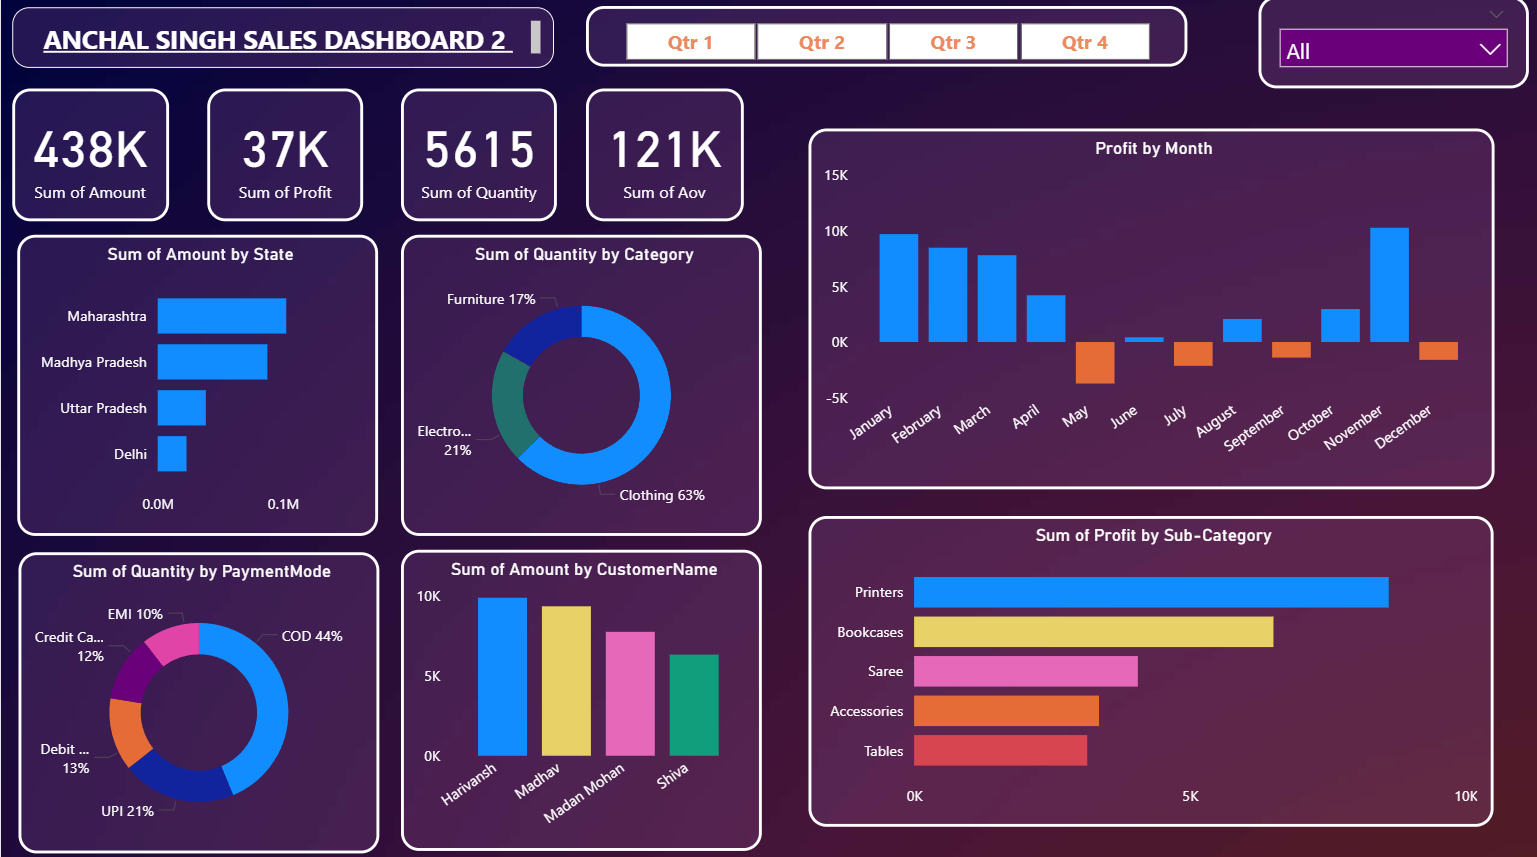

The dashboard page shown, as its layout file describes it:
{"tool":"powerbi","page":{"name":"Page 1","canvas":[1280,720],"ordinal":0},"visuals":[{"type":"textbox","box":[9.4,9.4,450,50],"z":0},{"type":"columnChart","title":"Profit by Month","fields":{"Category":["Orders.Order Date.Variation.Date Hierarchy.Month"],"Y":["Sum(Details.Profit)"]},"box":[671.4,110.2,570,300],"z":1000},{"type":"barChart","fields":{"Category":["Details.Sub-Category"],"Y":["Sum(Details.Profit)"]},"box":[671.4,432.3,569.5,258.8],"z":2000},{"type":"donutChart","fields":{"Y":["Sum(Details.Quantity)"],"Category":["Details.Category"]},"box":[332.6,198.5,300.3,250.5],"z":3000},{"type":"donutChart","fields":{"Y":["Sum(Details.Quantity)"],"Category":["Details.PaymentMode"]},"box":[14.5,462.5,300.3,250],"z":4000},{"type":"card","fields":{"Values":["Sum(Details.Amount)"]},"box":[9.6,76.8,130,110],"z":5000},{"type":"card","fields":{"Values":["Sum(Details.Quantity)"]},"box":[332.6,76.9,129.9,110.2],"z":6000},{"type":"card","fields":{"Values":["Sum(Details.Profit)"]},"box":[171.5,76.9,129.9,110.2],"z":7000},{"type":"card","fields":{"Values":["Sum(Details.Aov)"]},"box":[486.4,76.9,130.9,110.2],"z":8000},{"type":"barChart","fields":{"Category":["Orders.State"],"Y":["Sum(Details.Amount)"]},"box":[13.5,198.5,300.3,250.5],"z":9000},{"type":"columnChart","fields":{"Y":["Sum(Details.Amount)"],"Category":["Orders.CustomerName"]},"box":[332.6,460.4,300.3,250.5],"z":10000},{"type":"slicer","fields":{"Values":["Orders.Order Date.Variation.Date Hierarchy.Quarter"]},"box":[486.4,8.3,500,50],"z":11000},{"type":"slicer","fields":{"Values":["Orders.State"]},"box":[1045.5,0,224.5,76.9],"z":12000}]}

Visuals, with their boxes in screenshot pixels (x1, y1, x2, y2), scaled from the page's 1280x720 canvas onto the 1537x857 screenshot:
textbox: 11,11,552,71
"Profit by Month" columnChart: 806,131,1491,488
barChart - Details.Sub-Category x Sum(Details.Profit): 806,515,1490,823
donutChart - Sum(Details.Quantity) x Details.Category: 399,236,760,534
donutChart - Sum(Details.Quantity) x Details.PaymentMode: 17,551,378,848
card - Sum(Details.Amount): 12,91,168,222
card - Sum(Details.Quantity): 399,92,555,223
card - Sum(Details.Profit): 206,92,362,223
card - Sum(Details.Aov): 584,92,741,223
barChart - Orders.State x Sum(Details.Amount): 16,236,377,534
columnChart - Sum(Details.Amount) x Orders.CustomerName: 399,548,760,846
slicer - Orders.Order Date.Variation.Date Hierarchy.Quarter: 584,10,1184,69
slicer - Orders.State: 1255,0,1525,92
